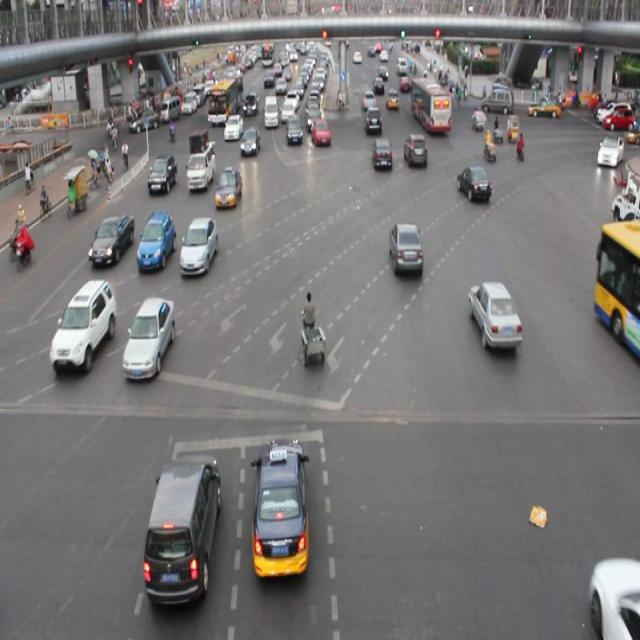car: (251, 439, 309, 578), (50, 277, 115, 374), (589, 557, 640, 640), (124, 298, 174, 381), (468, 282, 521, 350), (180, 217, 218, 275), (138, 213, 174, 273), (90, 215, 134, 263), (389, 223, 422, 276), (456, 164, 491, 202), (148, 153, 178, 194), (215, 168, 242, 208), (402, 135, 427, 170), (309, 115, 332, 149), (371, 137, 391, 172), (284, 114, 304, 148), (239, 127, 259, 159), (364, 107, 383, 136), (223, 114, 242, 143)
truck: (146, 454, 217, 602), (186, 132, 215, 192)
van: (592, 221, 640, 360), (410, 76, 450, 134)
